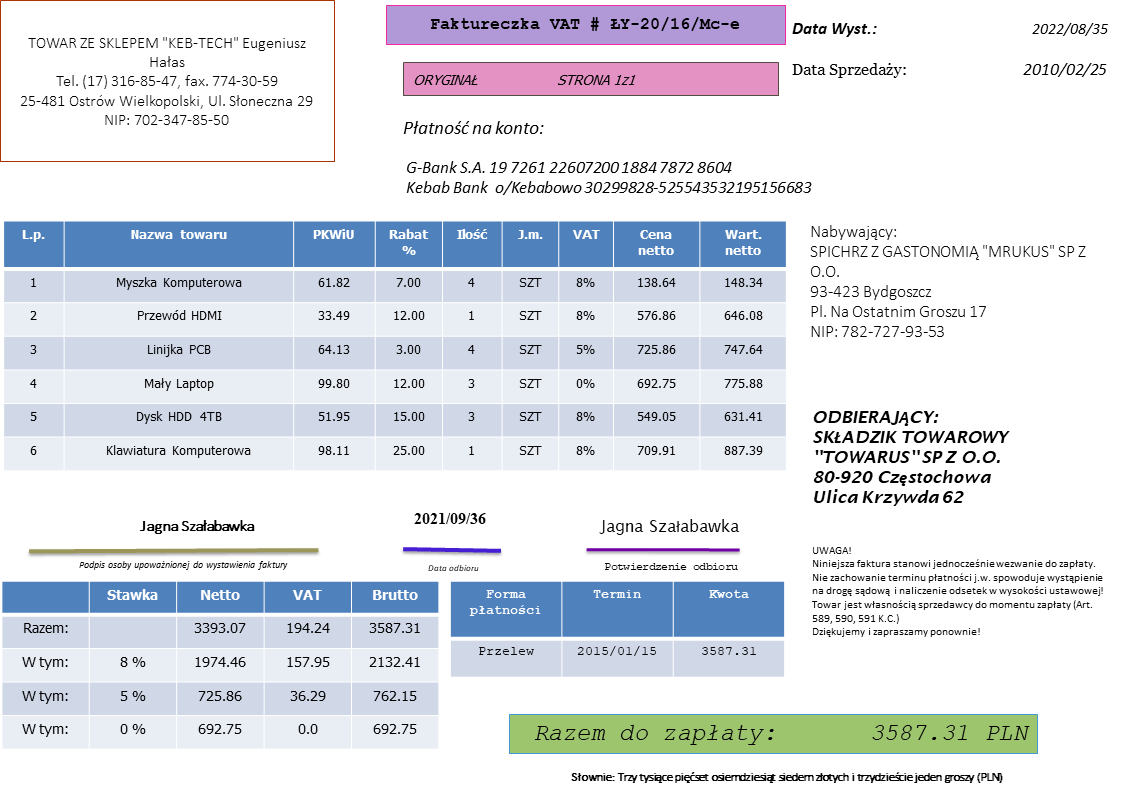Table: (2, 221, 788, 472), (1, 581, 440, 751), (448, 580, 785, 679)
TextBox: (806, 223, 1090, 341), (809, 542, 1107, 640), (15, 33, 315, 130), (811, 408, 1011, 509), (404, 157, 813, 198), (531, 720, 1033, 748), (567, 769, 1005, 787), (427, 12, 742, 35), (411, 69, 639, 90), (77, 557, 288, 574), (596, 516, 741, 538), (400, 118, 544, 138), (136, 515, 257, 536), (790, 61, 906, 80), (601, 559, 738, 574), (790, 19, 879, 40), (1021, 60, 1108, 80), (411, 508, 488, 528), (1030, 20, 1108, 37), (425, 562, 480, 575)
